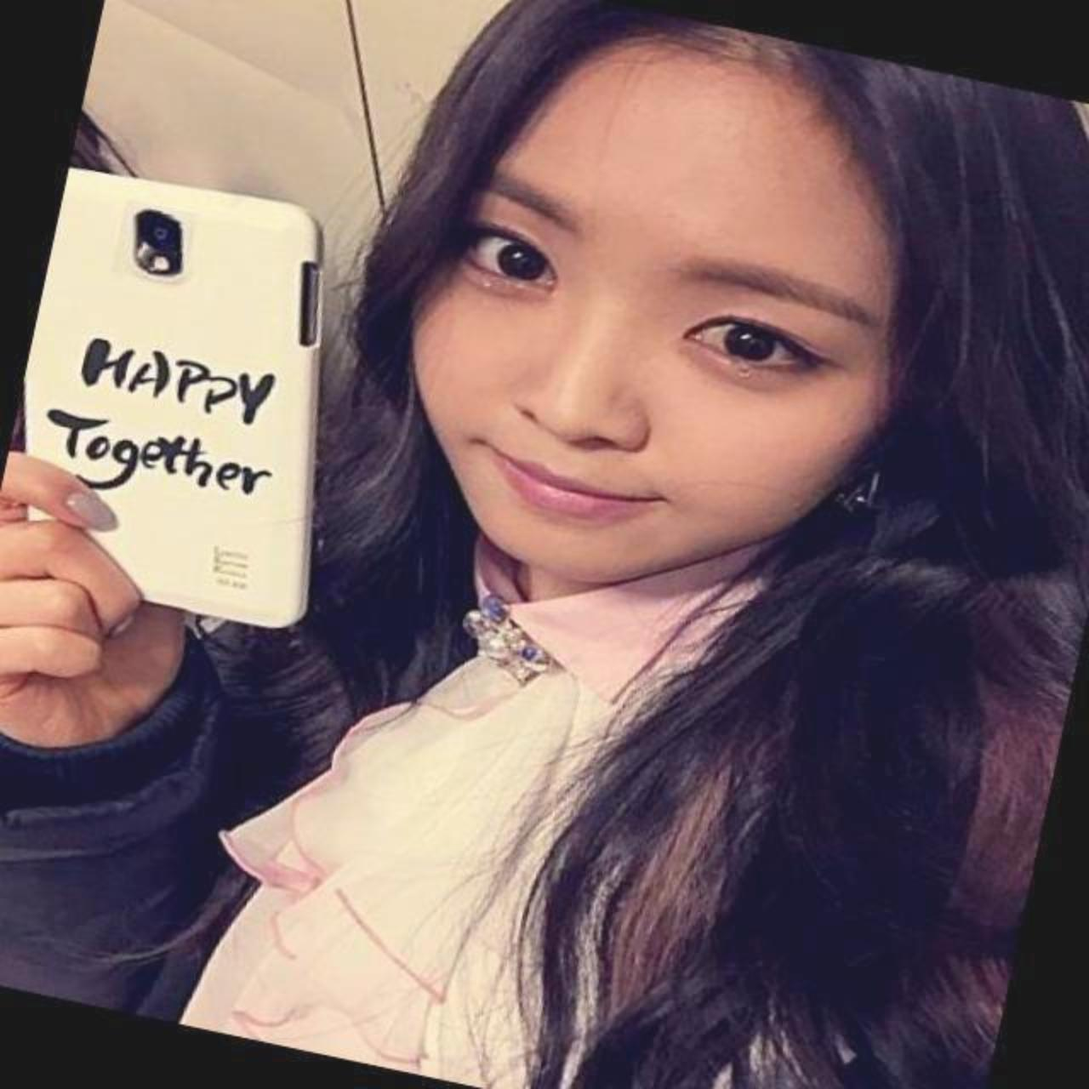phone: (0, 151, 388, 645)
